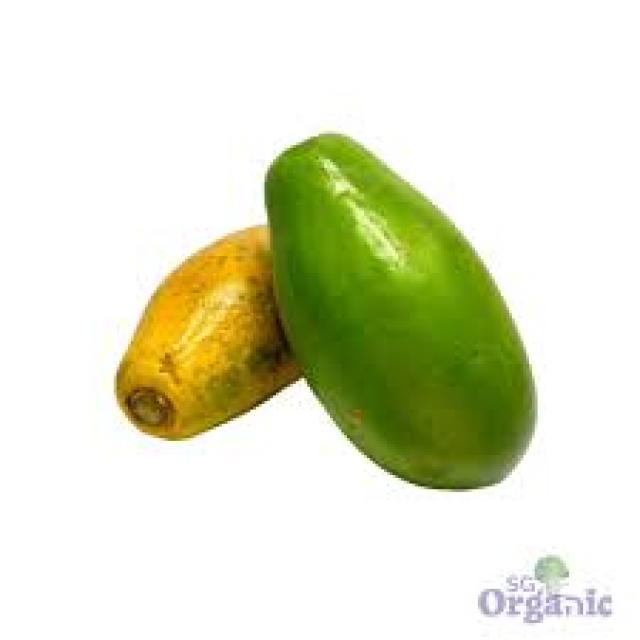Papaya: (260, 131, 540, 498), (113, 236, 302, 446)
